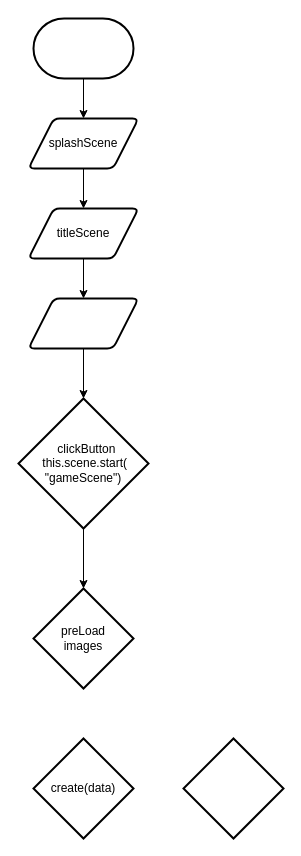
Image size: 301x856. Some labels were removed from this diagram. The shapes that lost their labels are listed below. From the top down, each one's centre as x and y in pixels, then its label:
the point at 83,48: Start
the point at 83,323: menuScene
